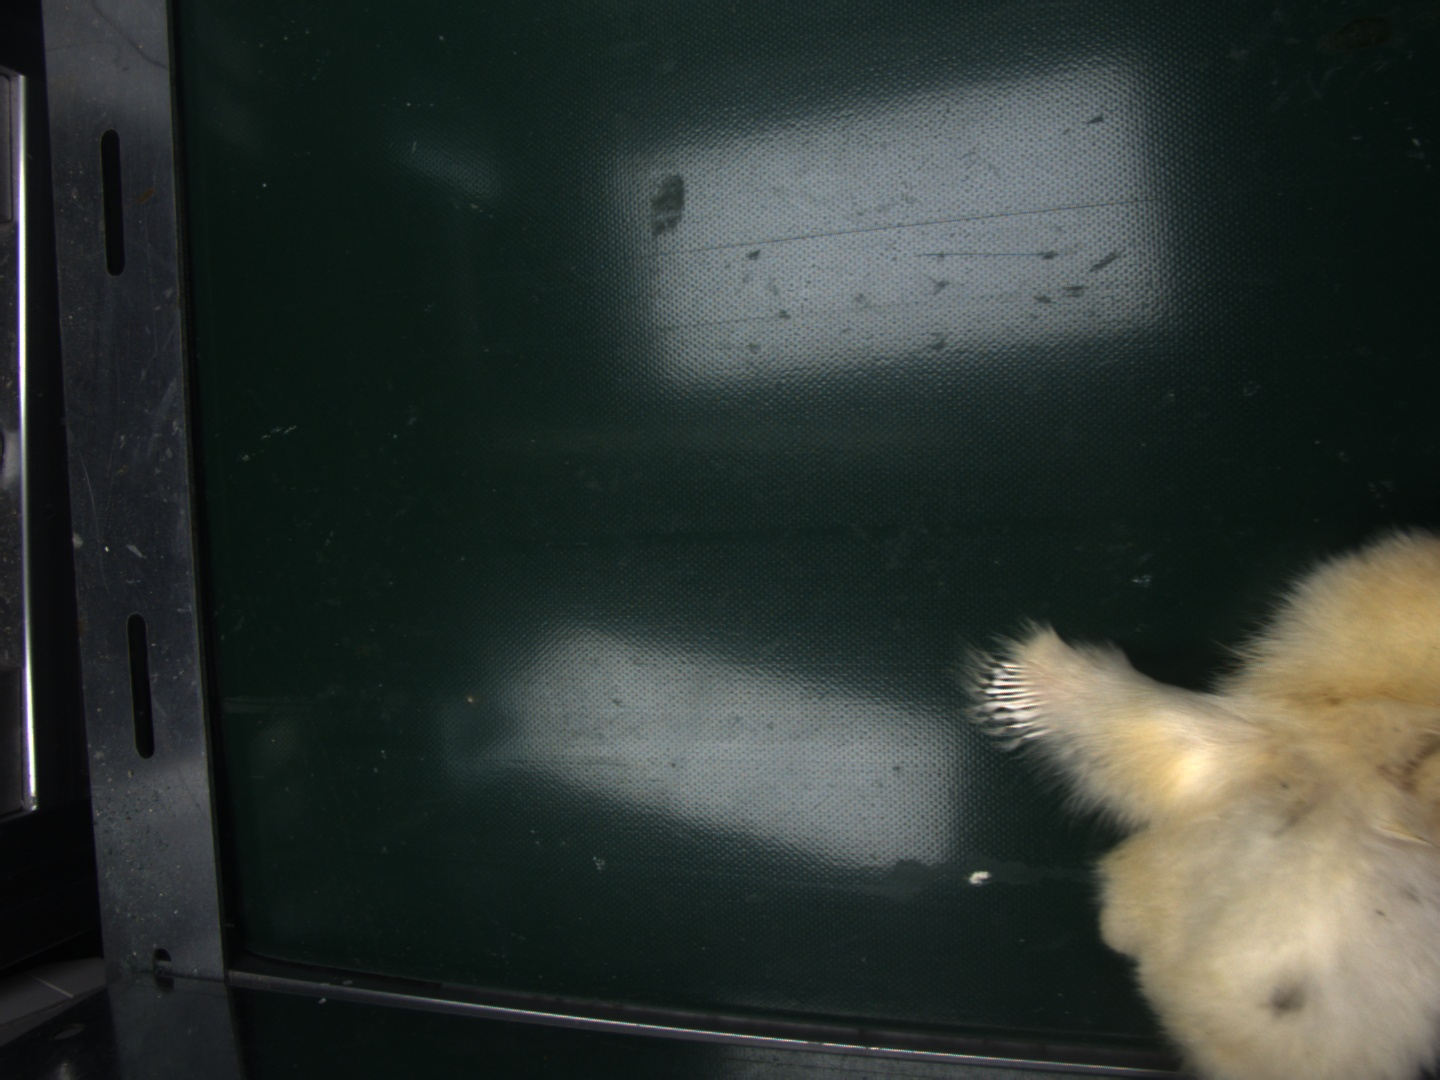male: (988, 658, 1051, 744)
